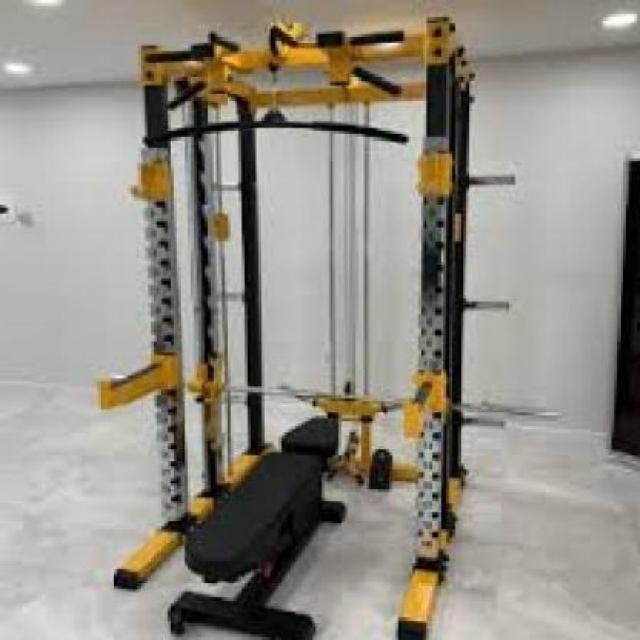smith machine: (97, 11, 518, 640)
